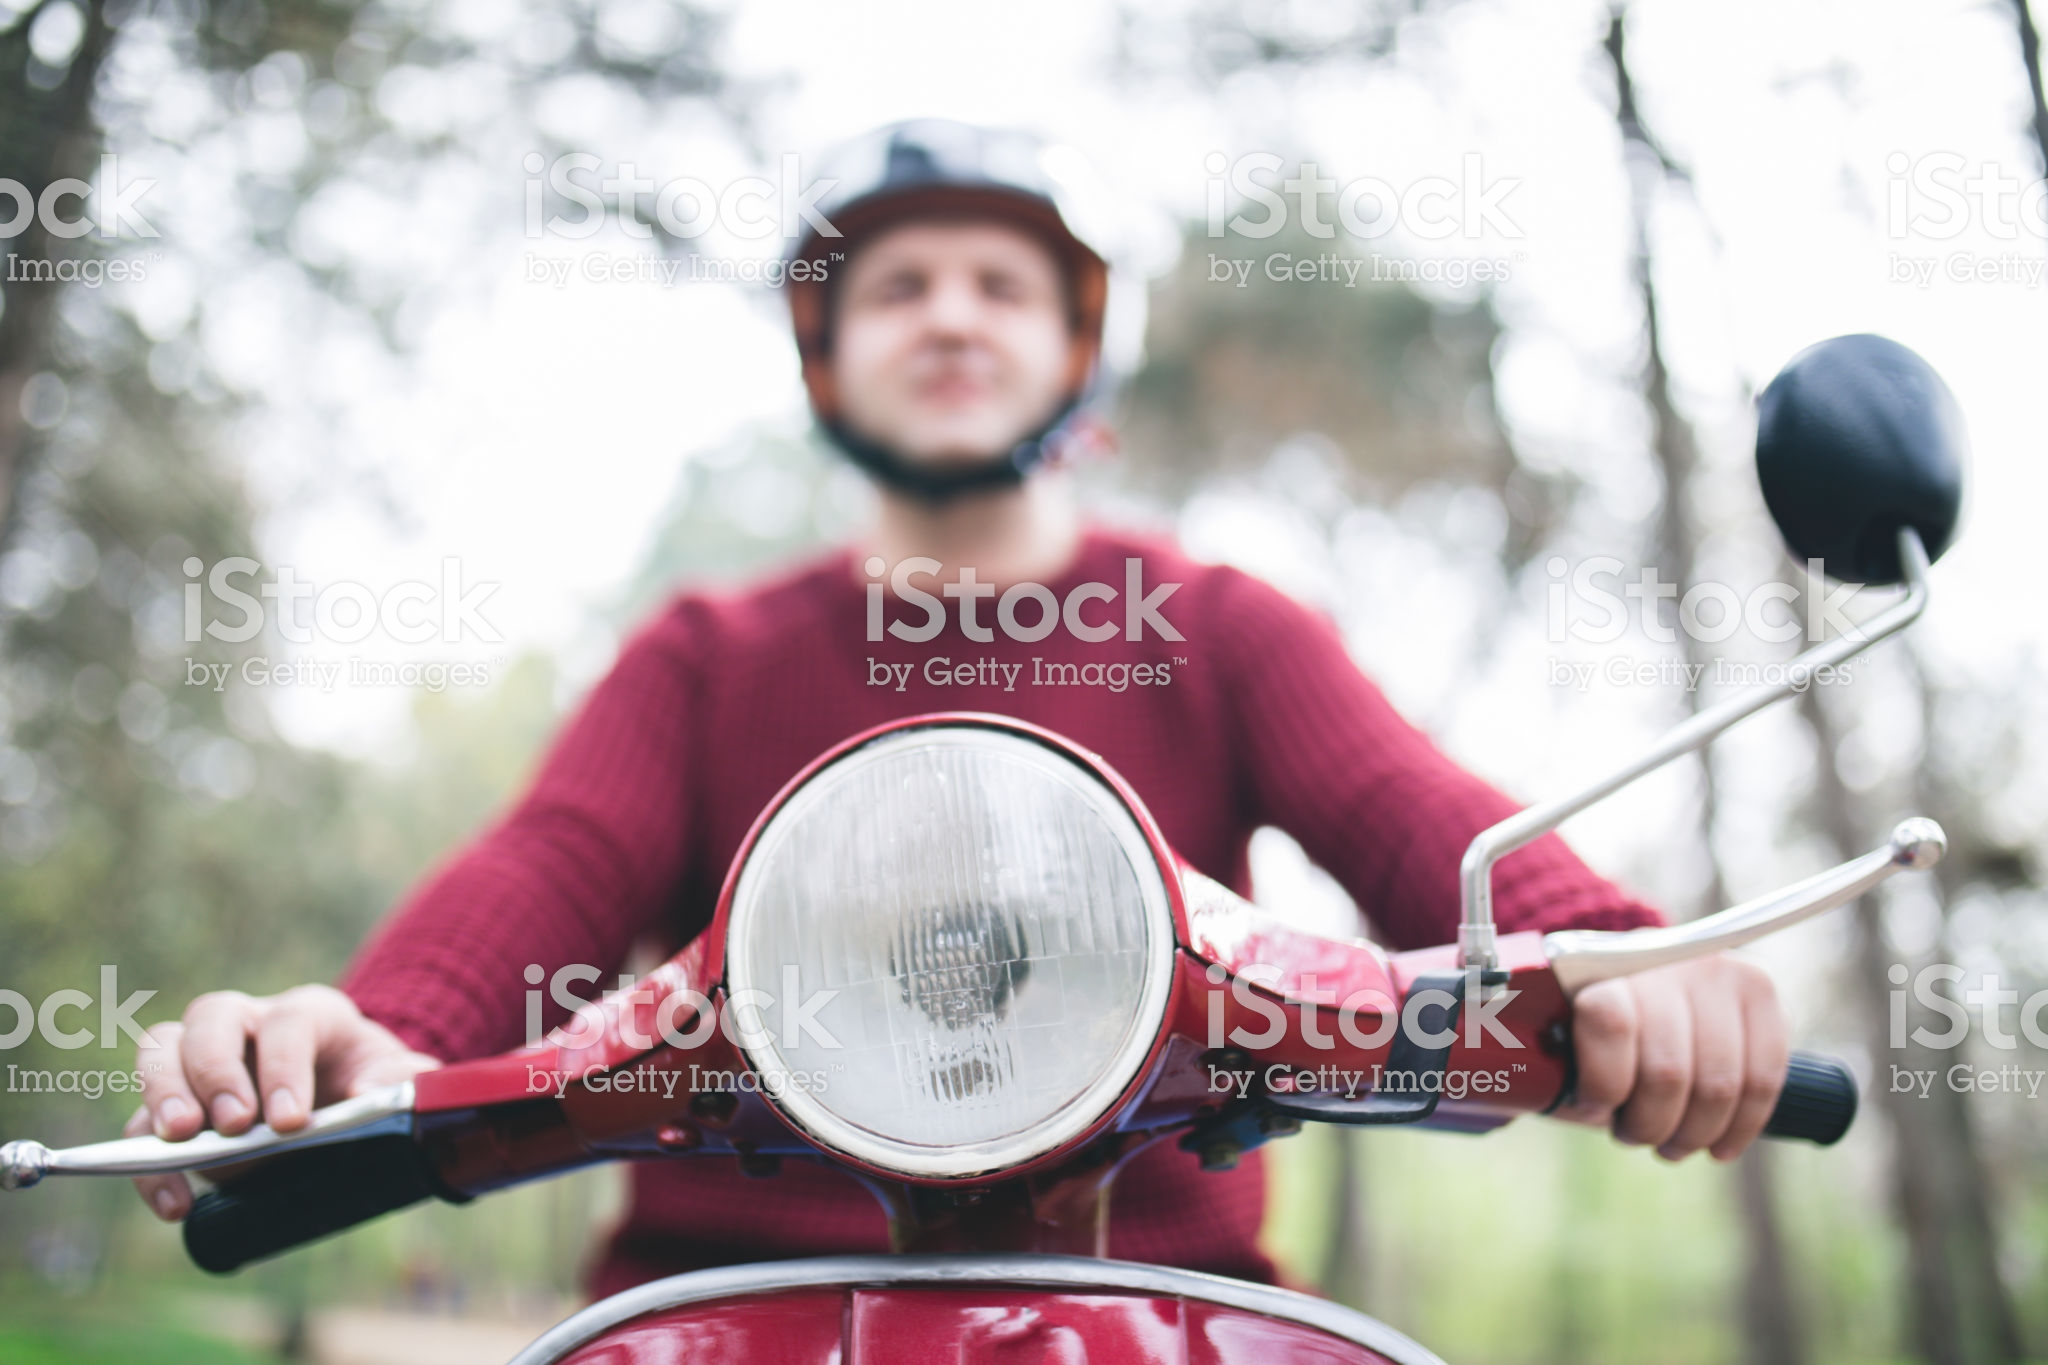helmet: (734, 123, 1186, 283)
